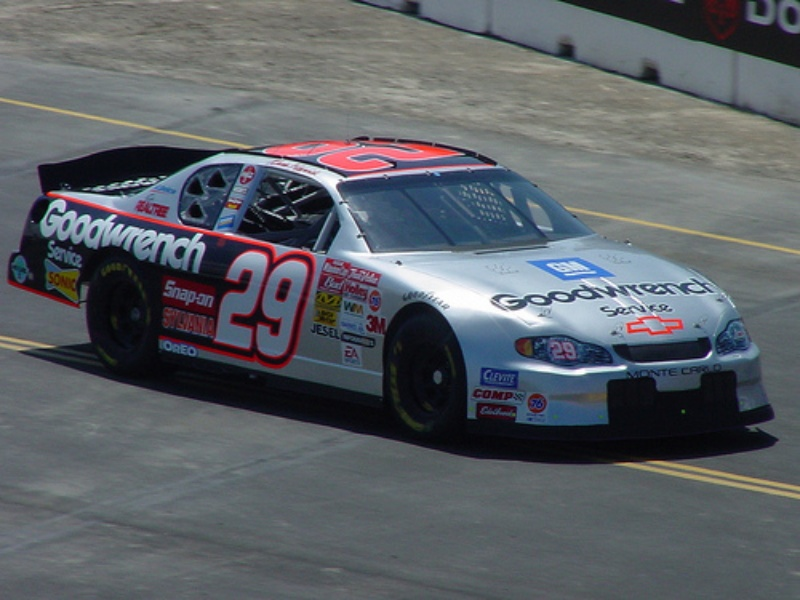car: (7, 136, 774, 443)
